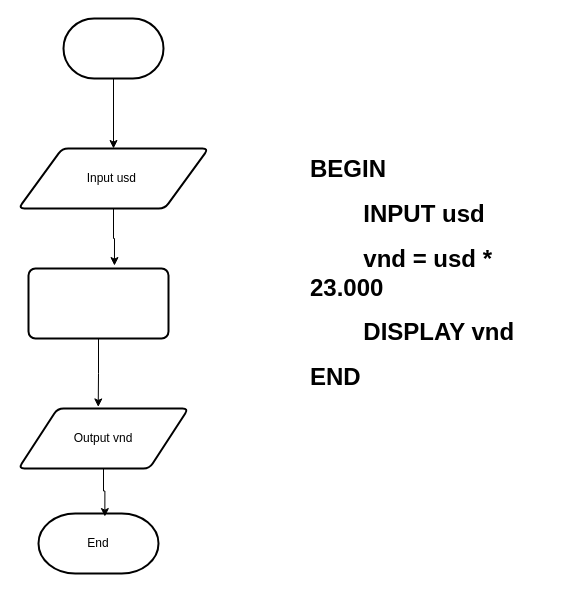
This 565x591 diagram has some shape labels left out. The box of each missing label's shape, as (x1, y1, x2, y2) in pixels:
Begin: (62, 17, 164, 79)
vnd = usd * 23.000: (27, 267, 169, 339)
